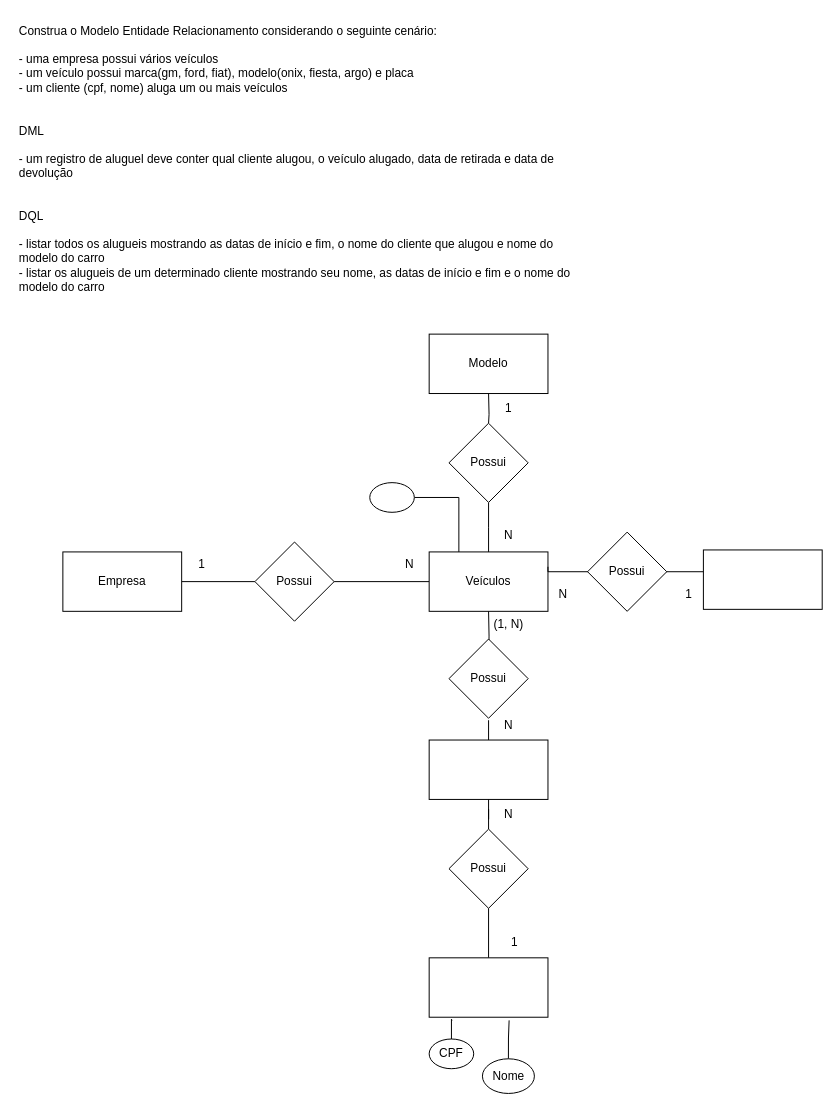
The diagram is 840 pixels wide and 1111 high, and some of its shapes have lost their labels. Here are the shapes that lost their labels. From the top down, the box of each, then its label:
(369, 482, 414, 512): Placa
(702, 549, 822, 609): Marca
(428, 739, 548, 799): Aluguel
(428, 957, 548, 1017): Cliente
